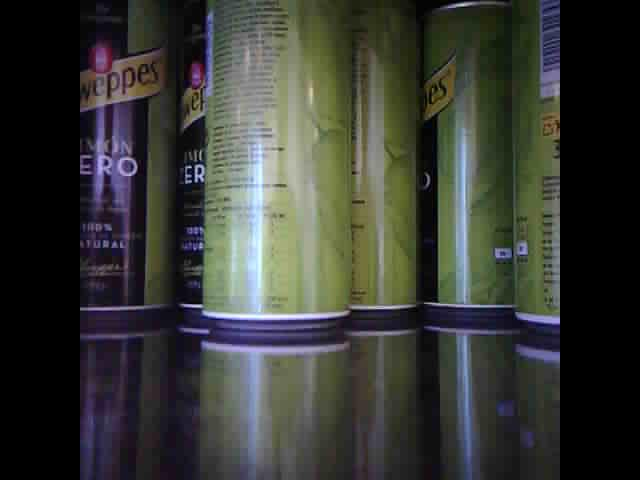schweppes: (200, 1, 354, 332), (78, 1, 173, 315), (420, 1, 515, 315), (351, 5, 418, 322), (513, 5, 559, 326), (169, 1, 202, 317)
